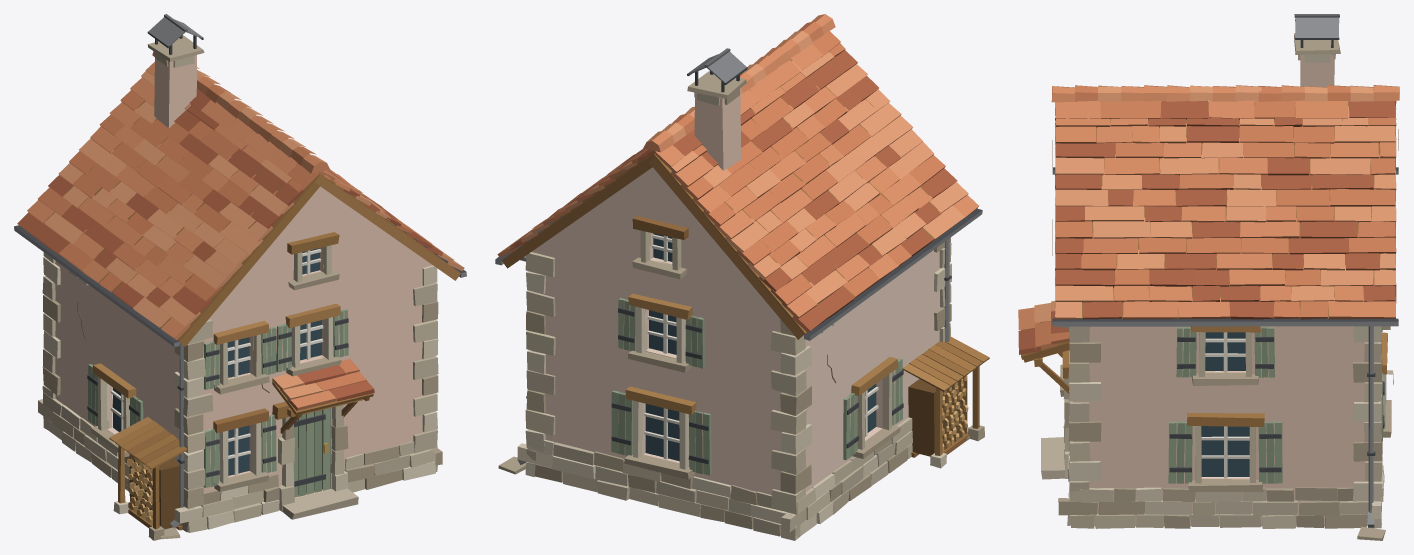
The model's file is honorine.glb.
3 renders of one model, left to right at view 1: azimuth 30°, elevation 25°; view 2: azimuth 150°, elevation 25°; view 3: azimuth 270°, elevation 25°, orthographic. The views are drawn at different scales.
Visible parts, largest first — view 1: honorine; view 2: honorine; view 3: honorine.
Boxes of the visible parts, x1,y1,x2,y2 form: honorine: [14, 14, 466, 540]; honorine: [495, 14, 989, 540]; honorine: [1018, 14, 1399, 540].
Size of the model in its own units: 7.66 by 9.46 by 7.5.
